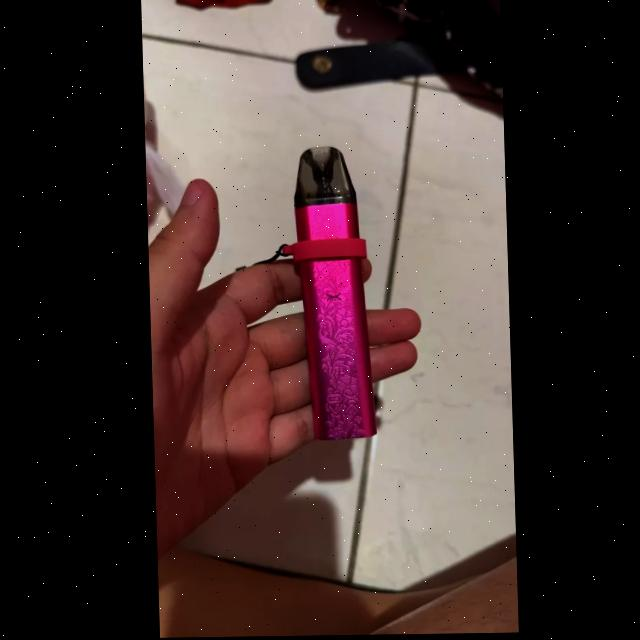vape: (289, 148, 377, 443)
